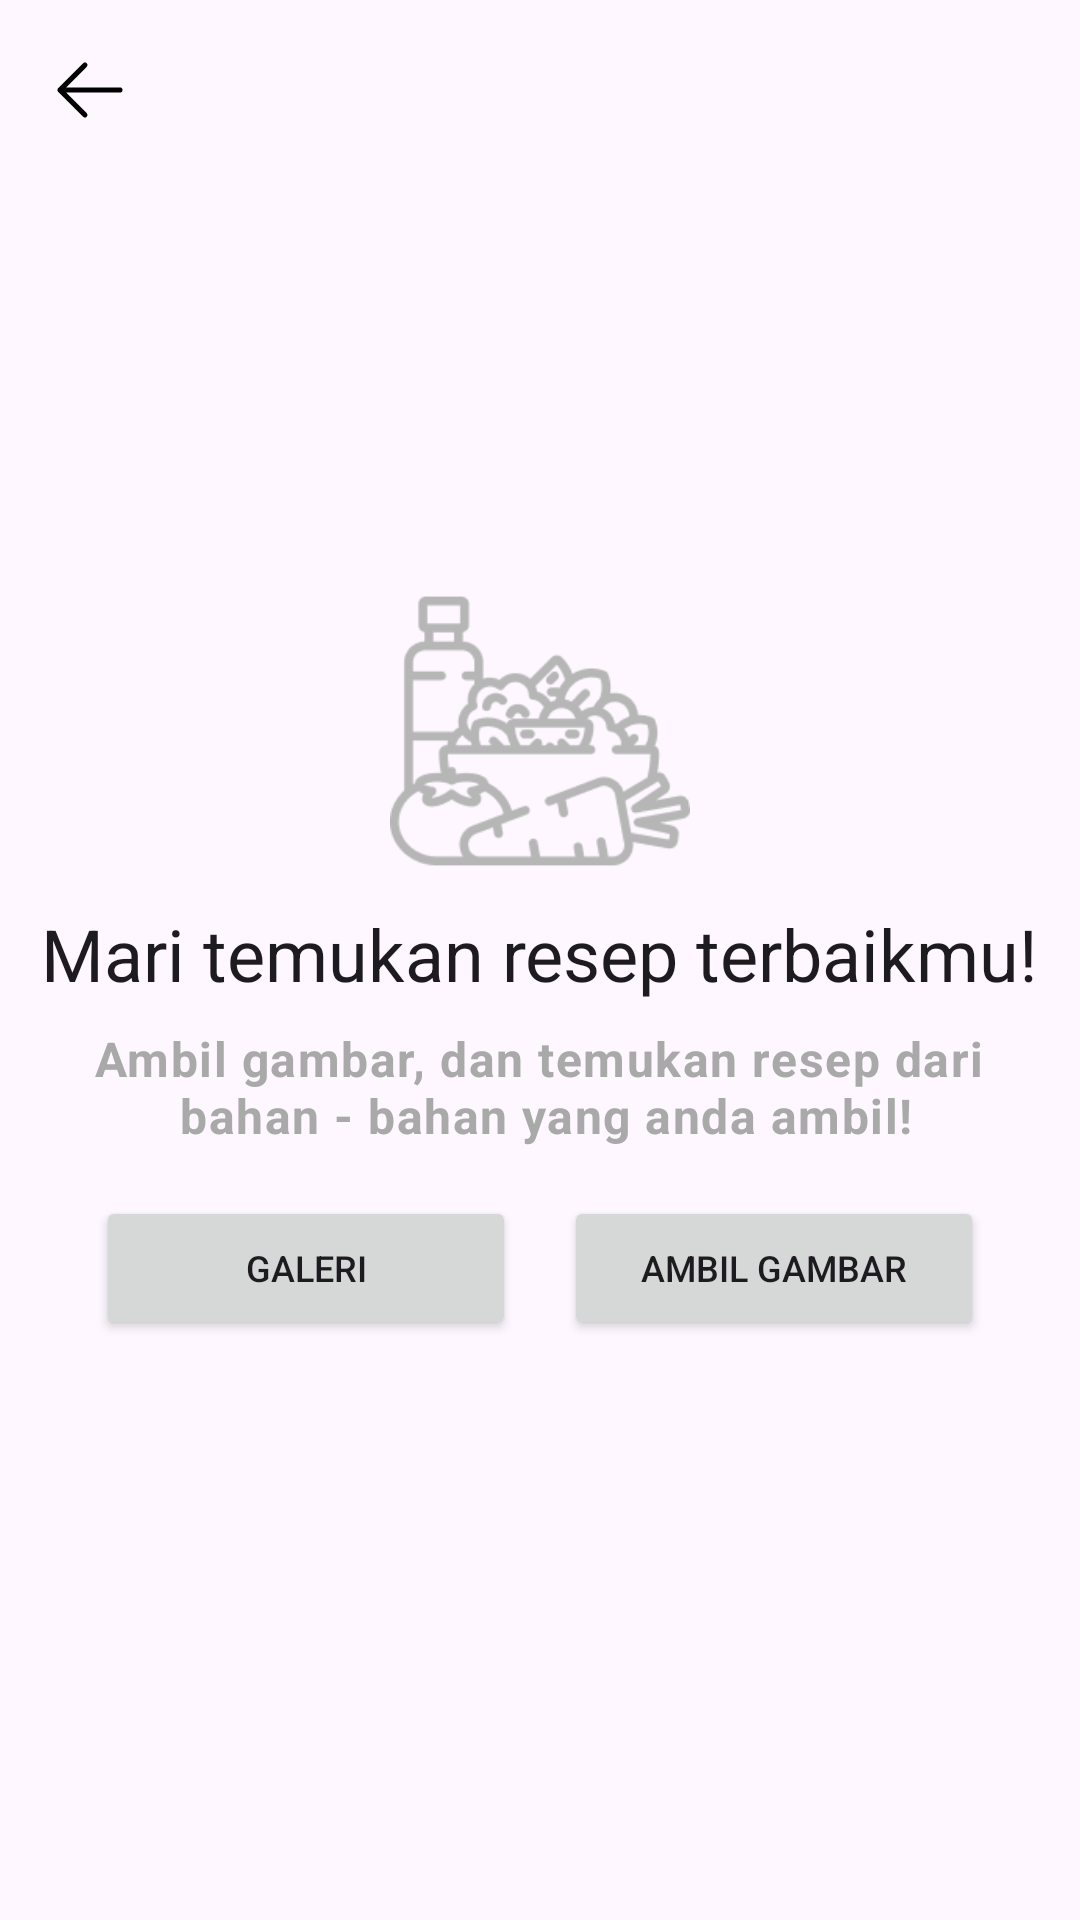

Icons on this 1080*1920 Android screen, each with its box as (x1, y1, x2, y2):
back button: (57, 62, 123, 118)
